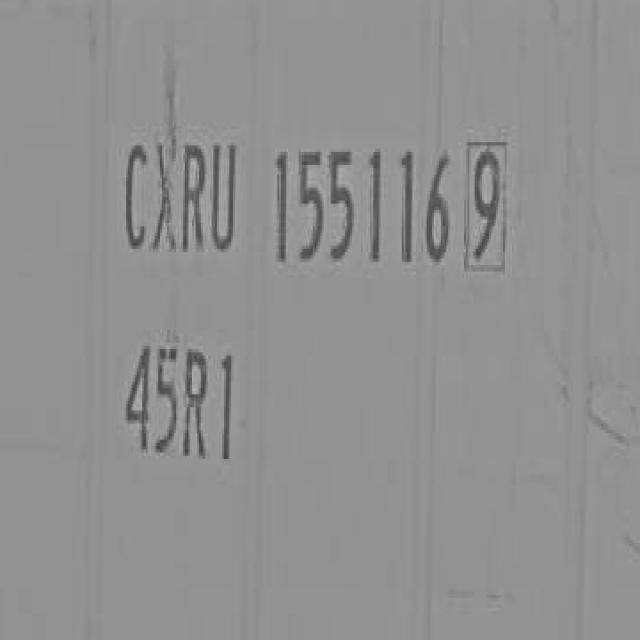dv: (461, 125, 514, 282)
owner: (118, 124, 238, 258)
serial: (270, 132, 453, 275)
size: (119, 327, 244, 470)
